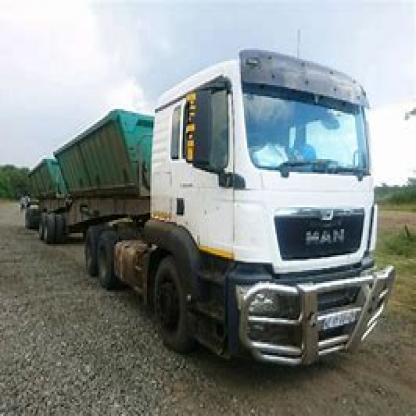dump_truck: (14, 41, 394, 381)
